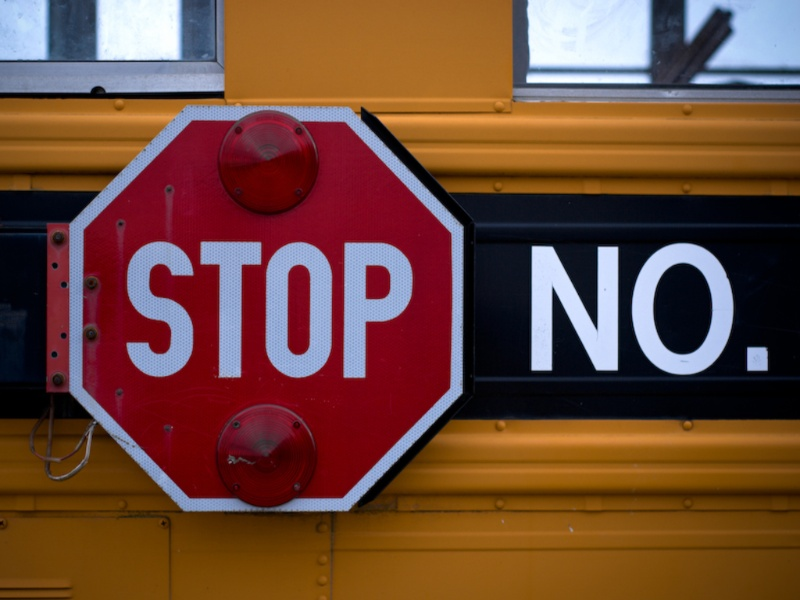stop: (56, 102, 466, 518)
